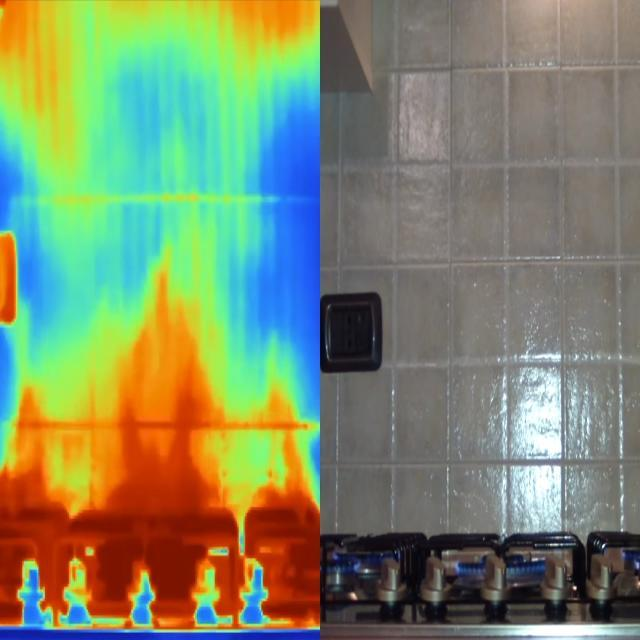fire: (102, 503, 239, 634), (1, 501, 101, 630), (240, 503, 321, 628)
